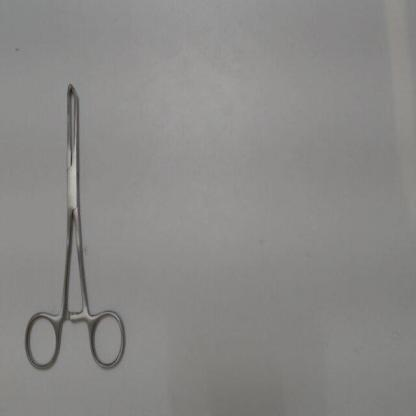Allis Tissue Forceps: (19, 70, 137, 380)
